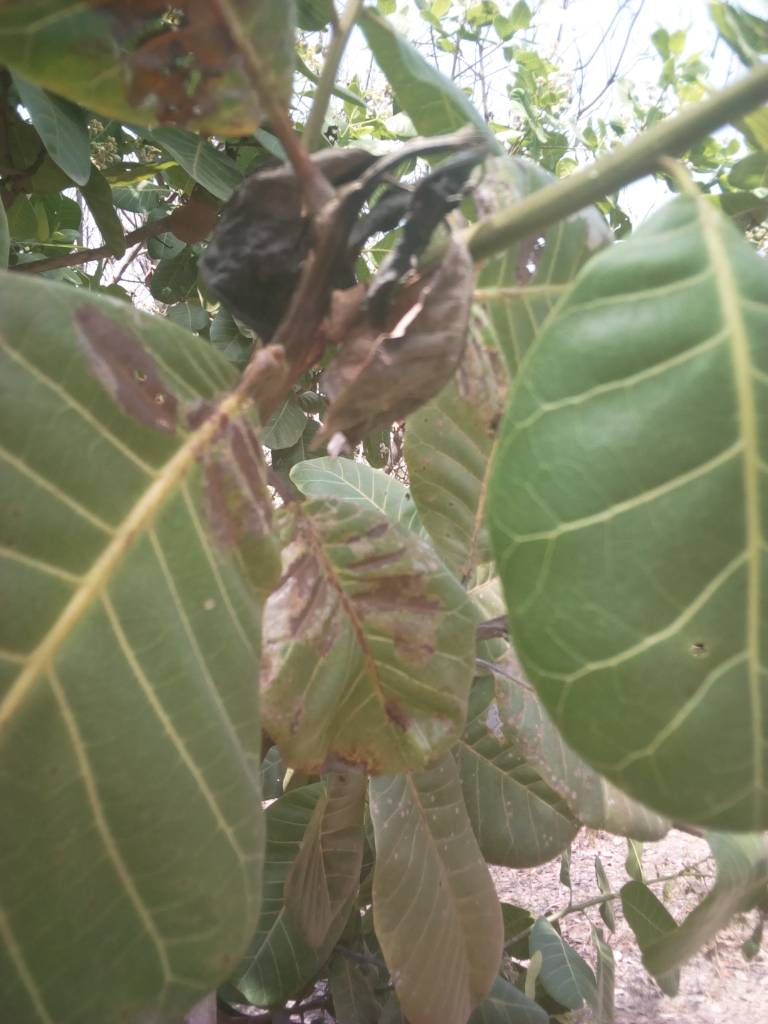Dessèchement des bourgeons: (202, 113, 497, 335)
